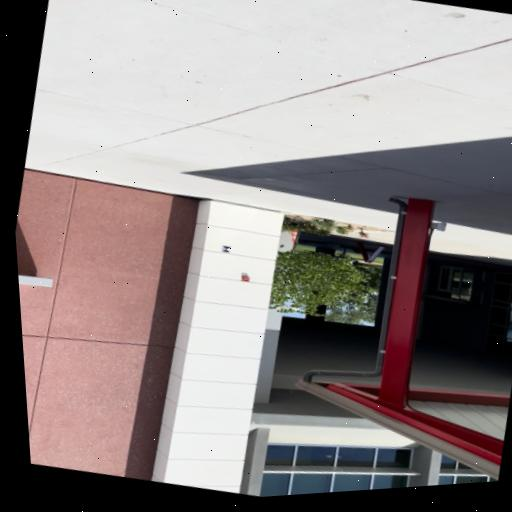target6: (220, 245, 231, 253)
